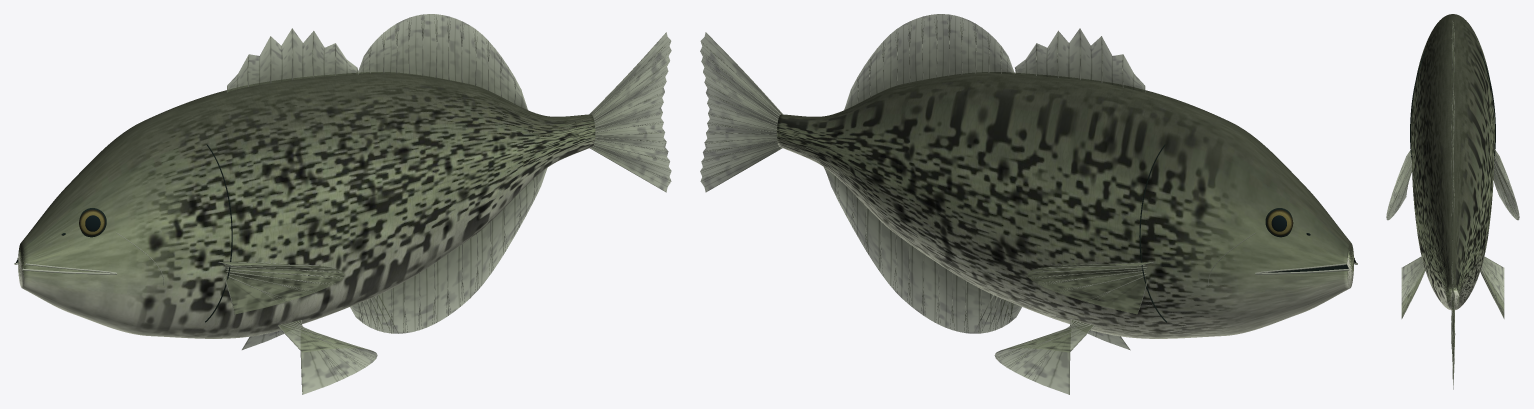
The model's file is black-crappie.glb.
3 renders of one model, left to right at view 1: azimuth 30°, elevation 25°; view 2: azimuth 150°, elevation 25°; view 3: azimuth 270°, elevation 25°, orthographic. The views are drawn at different scales.
Visible parts, largest first — view 1: black-crappie specimen; view 2: black-crappie specimen; view 3: black-crappie specimen.
Boxes of the visible parts, x1,y1,x2,y2 form: black-crappie specimen: [14, 14, 671, 394]; black-crappie specimen: [700, 14, 1357, 394]; black-crappie specimen: [1386, 14, 1519, 389].
Bounding box in the file's own units: 2.26 × 1.12 × 0.474.
10 materials, 6 textured.
